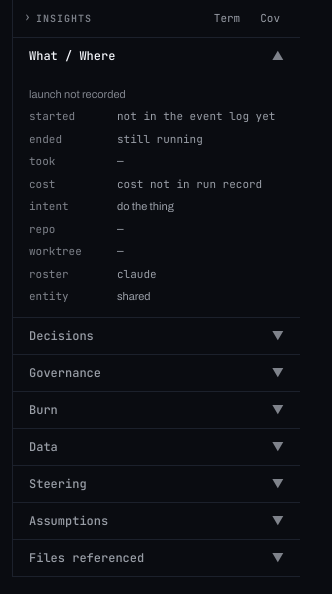
Test case: RightPanel — steering input removed (composer owns steering) › keeps the SteeringTimeline accordion (the read side stays)
Click the button "Steering ▼".
click(58, 484)  # box [13,466,300,502]
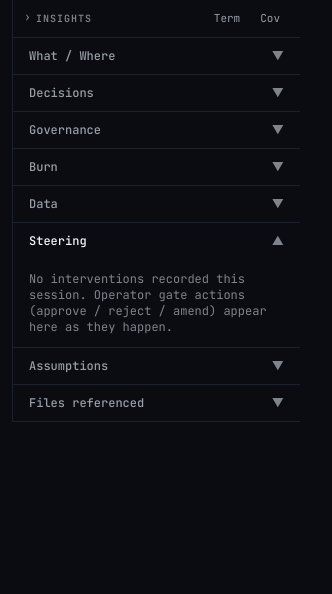
Expected: the text with test id "steering-timeline" is shown, [29,270,284,334]
